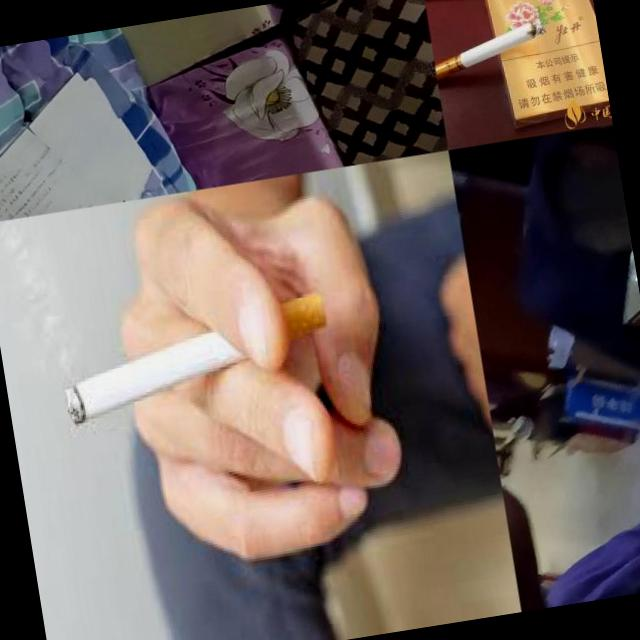smoke: (55, 292, 338, 428), (430, 18, 552, 86)
